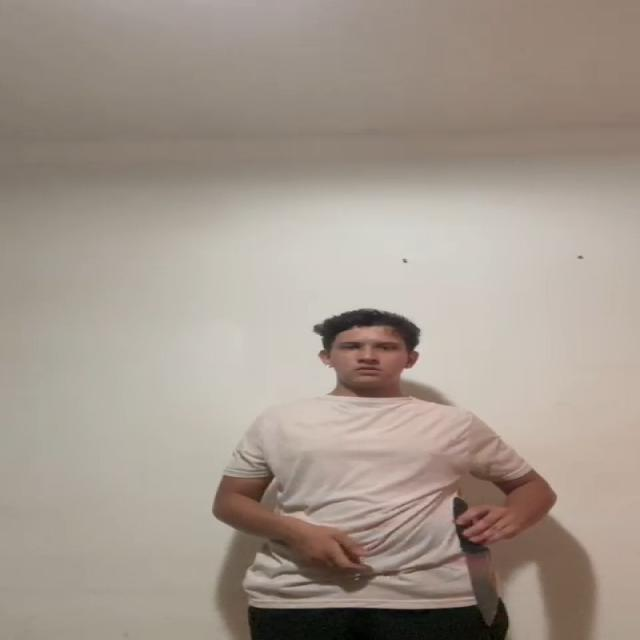knife: (467, 547, 500, 618)
